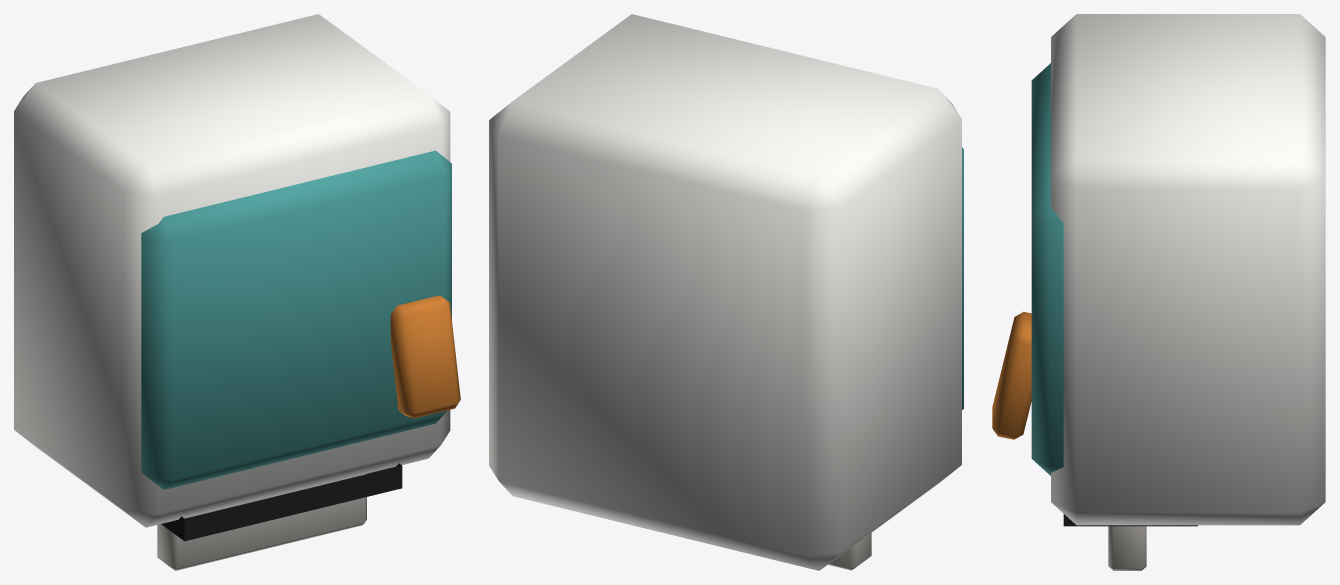
The model's file is PaperTowel_Dispenser_01.glb.
3 views of the same model, side by side, from view 1: azimuth 30°, elevation 25°; view 2: azimuth 150°, elevation 25°; view 3: azimuth 270°, elevation 25° (orthographic). The views are drawn at different scales.
Visible parts, largest first — view 1: SM_PaperTowel_Dispenser_01; view 2: SM_PaperTowel_Dispenser_01; view 3: SM_PaperTowel_Dispenser_01.
Boxes of the visible parts, x1,y1,x2,y2 form: SM_PaperTowel_Dispenser_01: (14, 14, 460, 570); SM_PaperTowel_Dispenser_01: (489, 14, 963, 570); SM_PaperTowel_Dispenser_01: (992, 14, 1325, 570).
Size of the model in its own units: 0.3 by 0.38 by 0.2609.
Materials: 1 (1 with a texture image).
